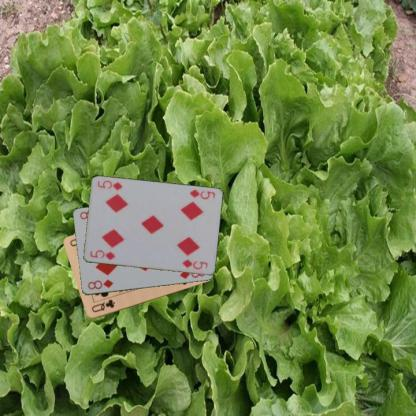5d: (87, 247, 116, 261), (187, 187, 216, 201)
8d: (85, 276, 114, 290)
Qc: (89, 297, 116, 314)
